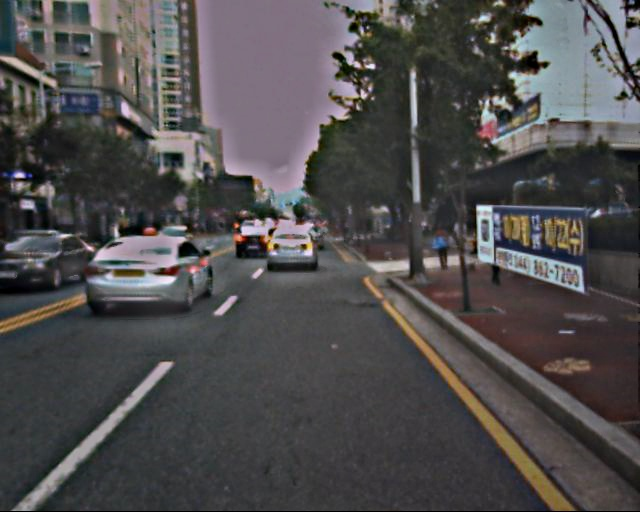person: (483, 230, 508, 291), (431, 222, 454, 277), (449, 214, 471, 267)
